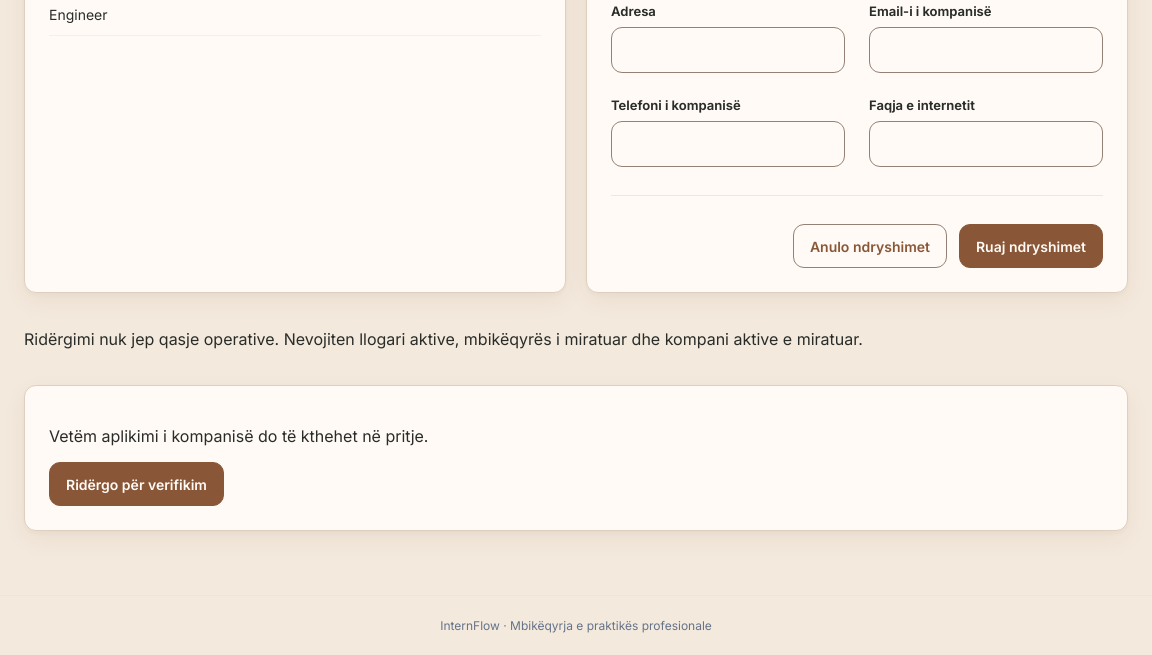
Test: resubmits only the rejected company without changing the approved supervisor
The image size is (1152, 655).
(page scrolled)
Click the button "Ridërgo për verifikim": (136, 484) [49,462,224,506]
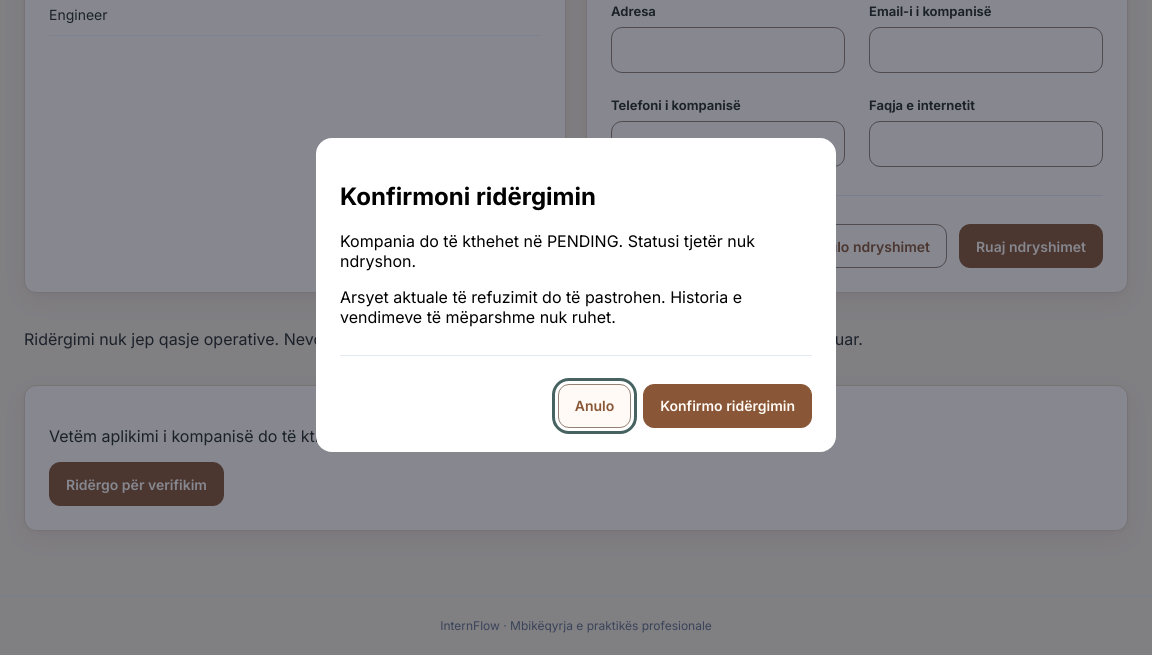
Click the button "Konfirmo ridërgimin": (728, 406) [643,384,812,428]
(page scrolled)
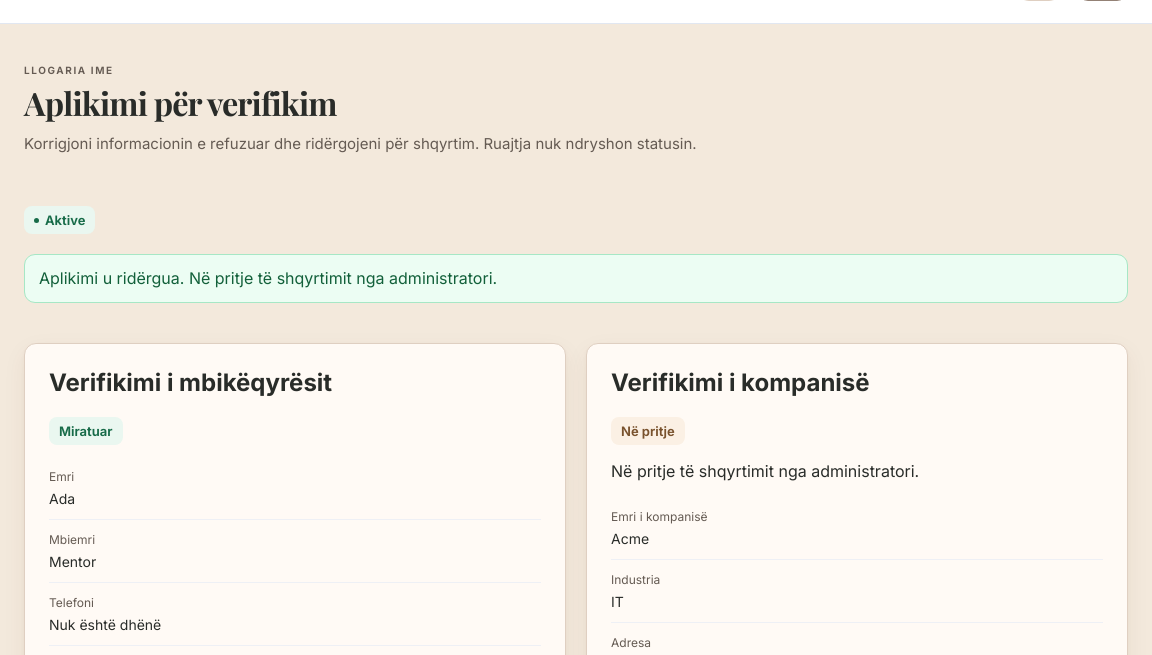
Expected: the text "Aplikimi u ridërgua. Në pritje të shqyrtimit nga administratori." is shown, [24,254,1128,303]
